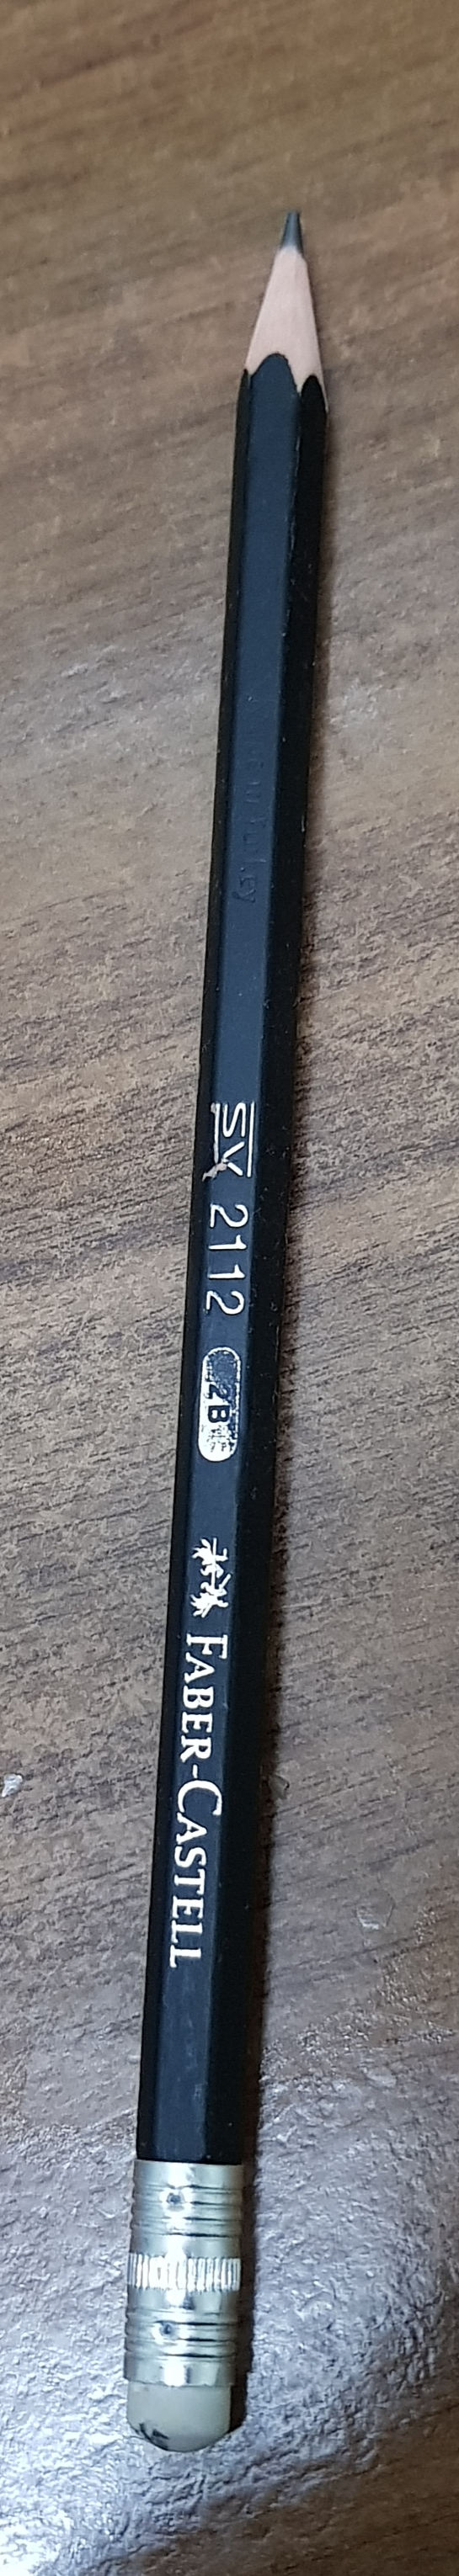pen_tip: (181, 140, 396, 399)
